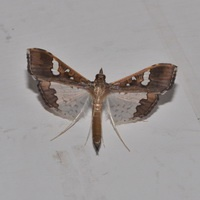insect: (27, 48, 176, 153)
